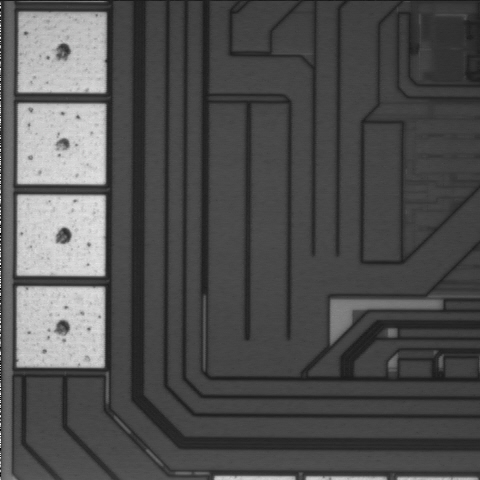pad: (17, 195, 105, 276), (18, 13, 105, 93), (18, 104, 105, 184), (17, 287, 104, 367)
